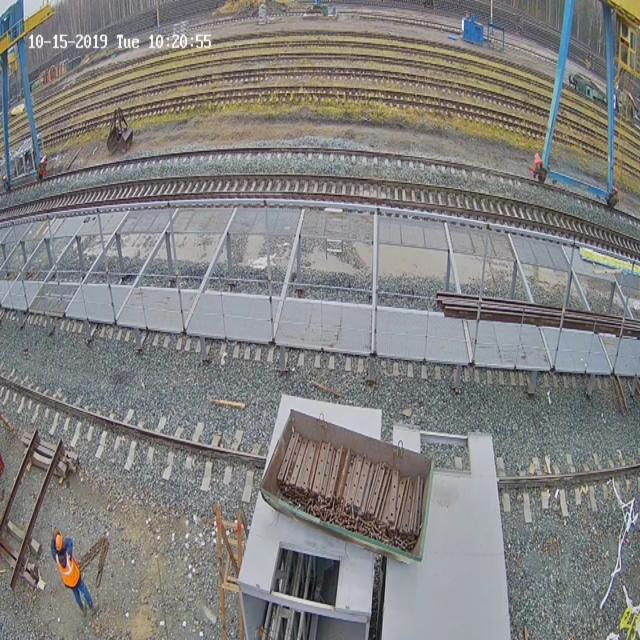Helmet: (55, 532, 63, 552)
Person: (51, 530, 98, 617)
